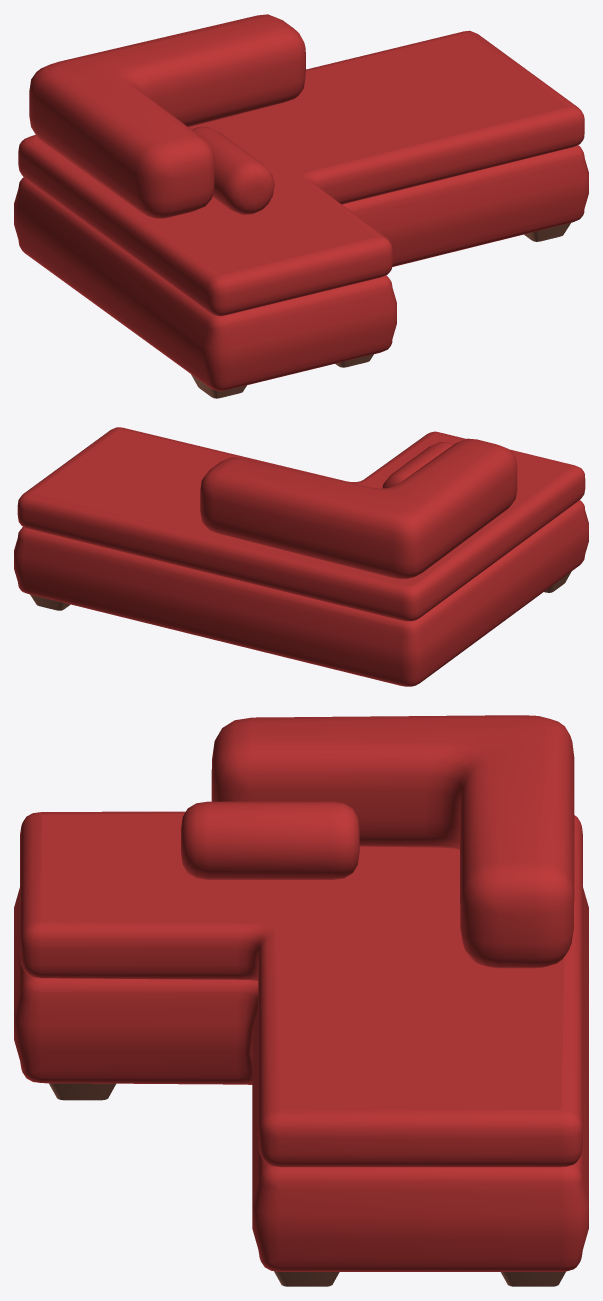
Rendered from Sofa_2.FBX.
The picture shows the model from 3 angles, top to bottom: view 1: azimuth 30°, elevation 25°; view 2: azimuth 150°, elevation 25°; view 3: azimuth 270°, elevation 25°; orthographic projection. The views are drawn at different scales.
Visible parts, largest first — view 1: Sofa_2; view 2: Sofa_2; view 3: Sofa_2.
Boxes of the visible parts, left/top/right/bottom form: Sofa_2: left=14, top=14, right=588, bottom=398; Sofa_2: left=14, top=427, right=588, bottom=686; Sofa_2: left=14, top=715, right=588, bottom=1286.
Bounding box in the file's own units: 50.24 × 20.72 × 38.34.
